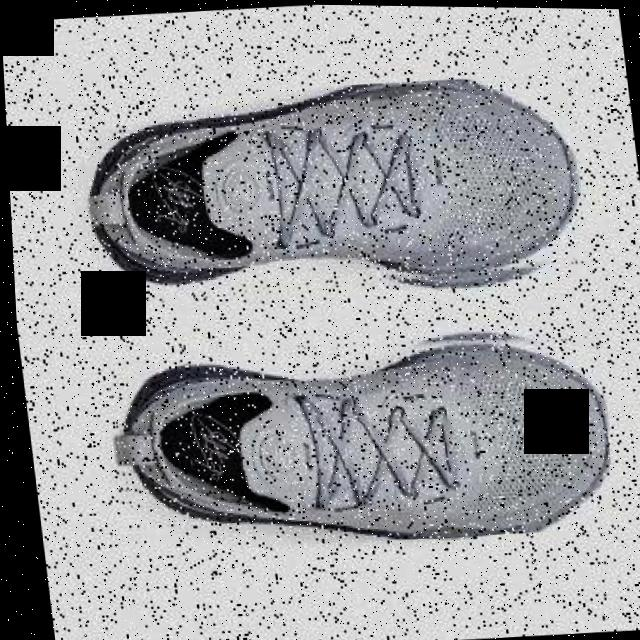shoe: (71, 65, 593, 313), (97, 314, 614, 560)
